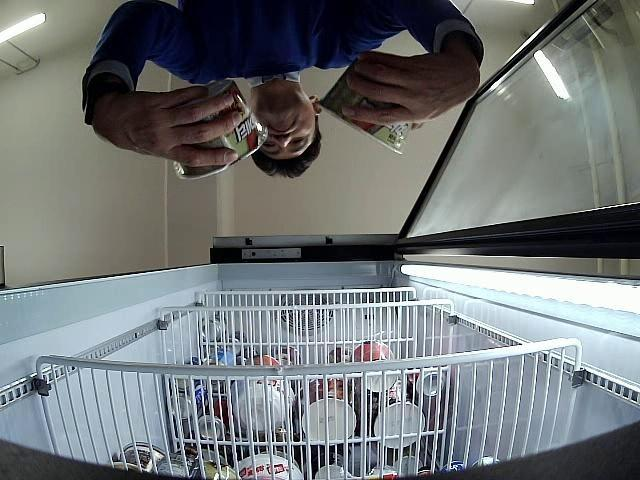03_chapagetti_L: (316, 56, 413, 154), (173, 84, 269, 179)
